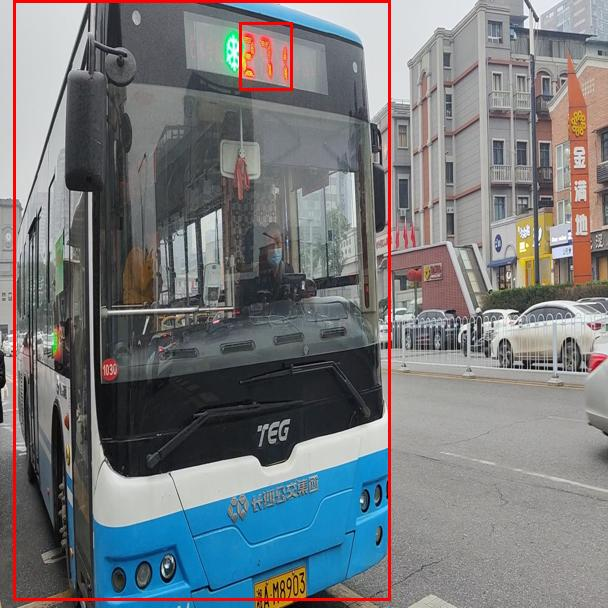bus: (13, 0, 390, 600)
screen: (239, 22, 292, 90)
